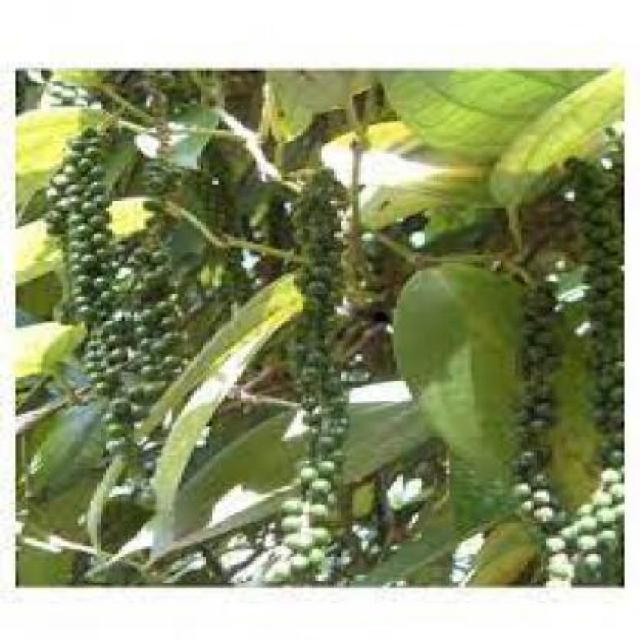UNRIPE: (568, 151, 630, 606), (38, 133, 125, 399), (288, 170, 343, 576), (119, 141, 182, 435), (515, 268, 559, 570)
